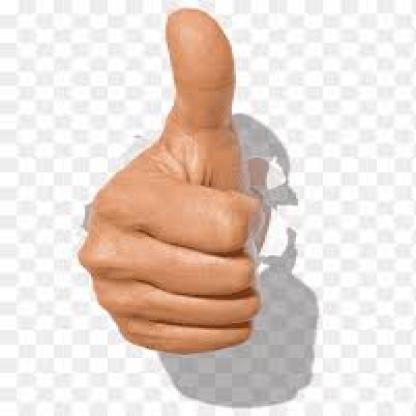thumb_up: (76, 6, 261, 356)
